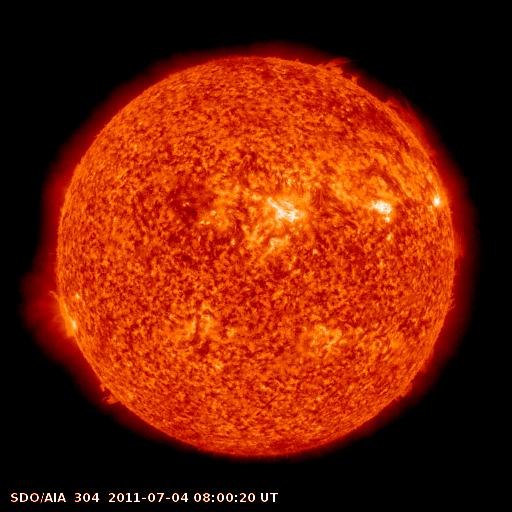prominence: (378, 87, 444, 168), (316, 48, 361, 89), (441, 223, 478, 262), (93, 376, 132, 412)
